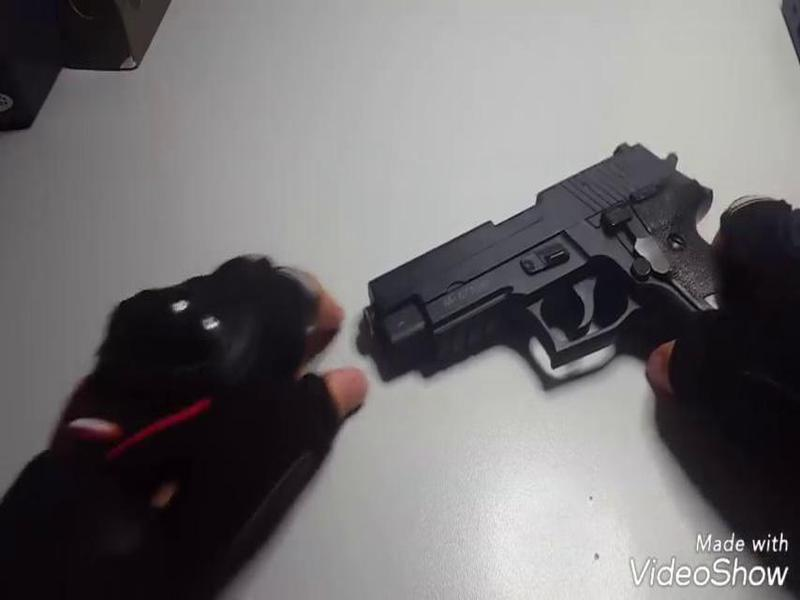Pistola: (357, 139, 754, 405)
